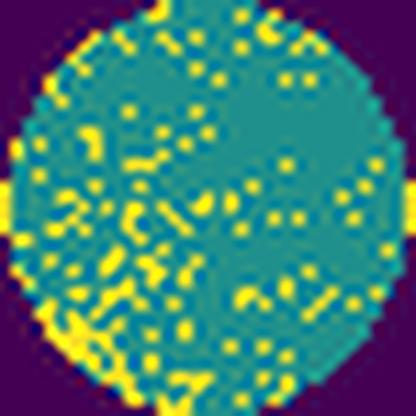Edge-Loc: (31, 274, 155, 410), (153, 366, 216, 416)
